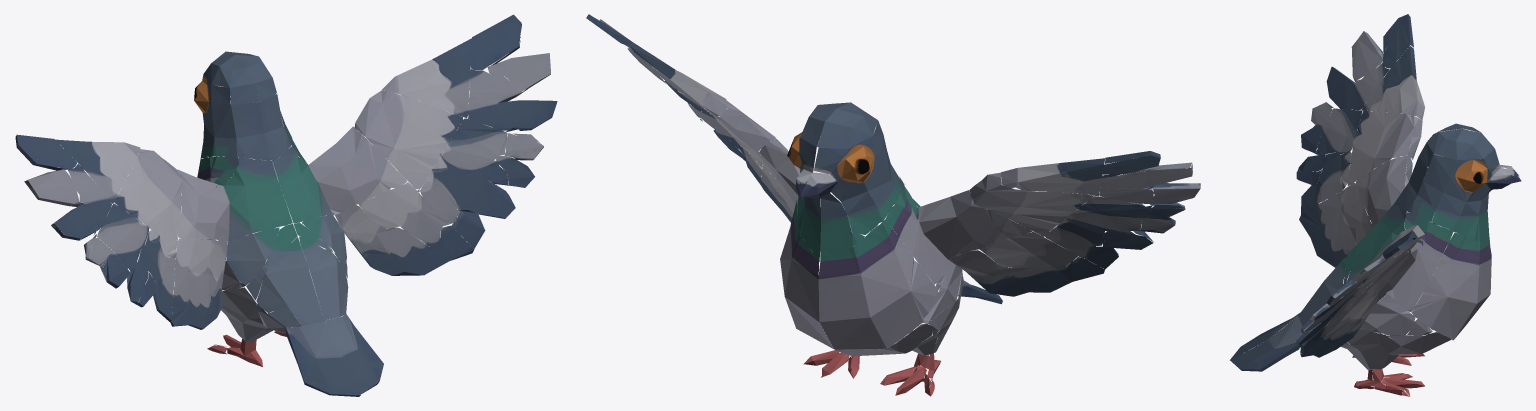
Rendered from pigeon.glb.
3 views of the same model, side by side, from view 1: azimuth 30°, elevation 25°; view 2: azimuth 150°, elevation 25°; view 3: azimuth 270°, elevation 25° (orthographic). The views are drawn at different scales.
Parts seen in each view (by area): view 1: tripo_node_cfa9b9ff-0bdf-4299-bc13-6a96c3cdf492; view 2: tripo_node_cfa9b9ff-0bdf-4299-bc13-6a96c3cdf492; view 3: tripo_node_cfa9b9ff-0bdf-4299-bc13-6a96c3cdf492.
Part boxes in pixels (x1,y1,x2,y2): tripo_node_cfa9b9ff-0bdf-4299-bc13-6a96c3cdf492: (15,14,557,396); tripo_node_cfa9b9ff-0bdf-4299-bc13-6a96c3cdf492: (586,14,1200,396); tripo_node_cfa9b9ff-0bdf-4299-bc13-6a96c3cdf492: (1230,14,1521,396).
Bounding box in the file's own units: 1 × 0.4828 × 0.5179.
Materials: 1 (1 with a texture image).
